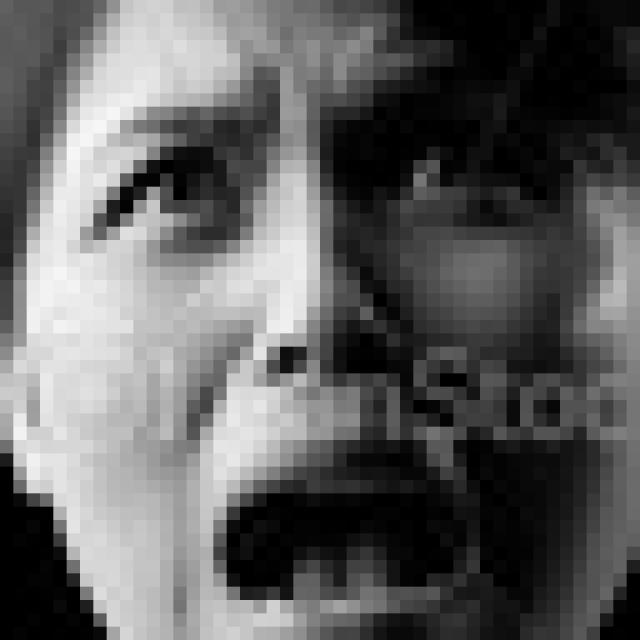fear: (88, 78, 595, 640)
